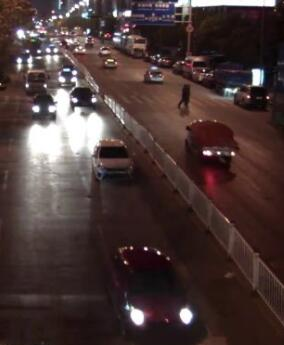bus: (119, 34, 147, 54), (111, 30, 124, 51)
car: (102, 244, 201, 343), (184, 117, 238, 162), (90, 138, 135, 182), (212, 60, 253, 97), (232, 83, 271, 112), (30, 91, 58, 122), (69, 85, 97, 111), (23, 69, 49, 92), (182, 55, 203, 78), (57, 66, 77, 86), (142, 65, 165, 82), (192, 64, 210, 81), (24, 42, 42, 57), (16, 49, 33, 64), (156, 55, 172, 67), (103, 56, 118, 68), (45, 43, 60, 55), (170, 59, 182, 73), (98, 45, 113, 56), (73, 43, 86, 55), (84, 34, 95, 45), (149, 54, 161, 64)
